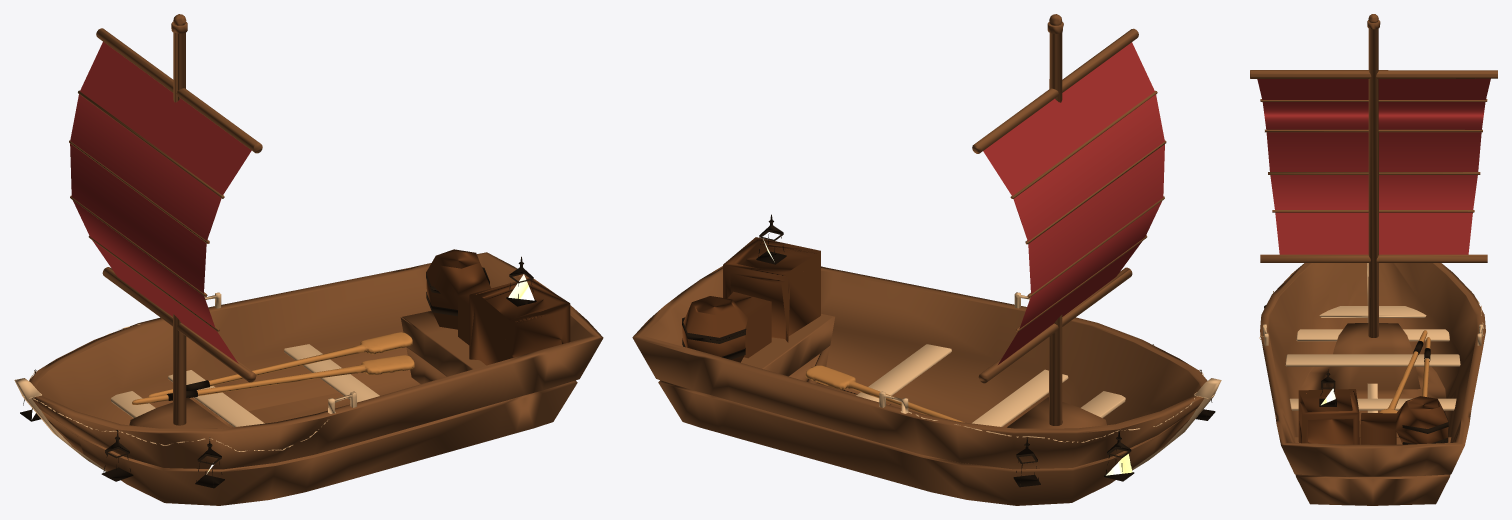
The model's file is sailboat.glb.
3 renders of one model, left to right at view 1: azimuth 30°, elevation 25°; view 2: azimuth 150°, elevation 25°; view 3: azimuth 270°, elevation 25°, orthographic. The views are drawn at different scales.
Size of the model in its own units: 3.81 by 3.13 by 1.93.
